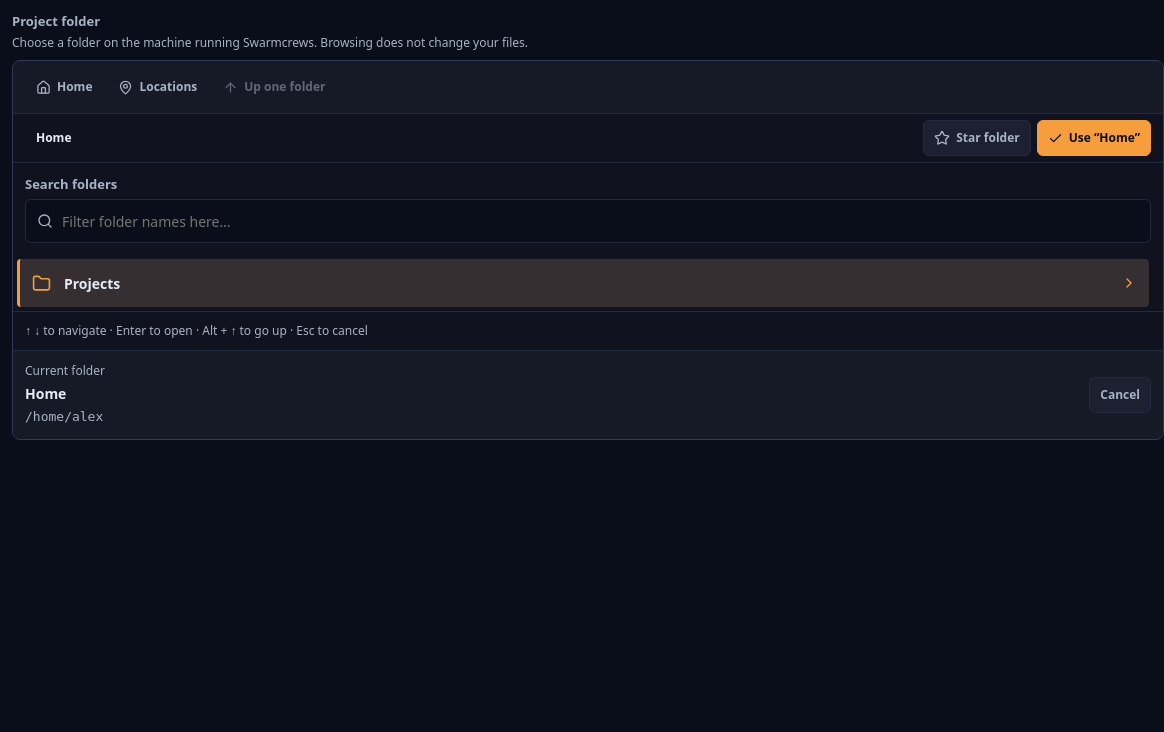
it: new folder from an empty search › hides the previous proposal while a new lookup is pending or fails
Expected: the option "Projects" is shown, [17, 259, 1149, 307]
Type "Fresh app" into the dropdown.
click(588, 221); type("Fresh app")  # box [25, 199, 1151, 243]
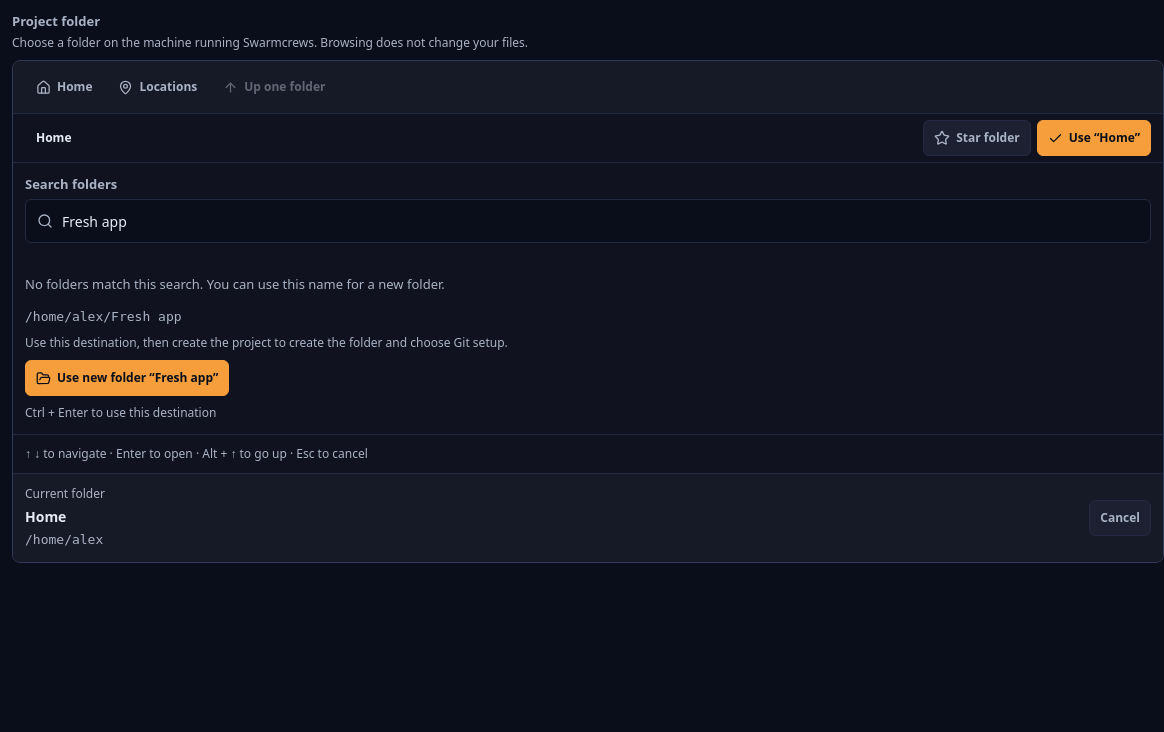
Expected: the button with aria-label "Use new folder Fresh app" is shown, [25, 360, 229, 396]
Replace the text in the dropdown with "denied" at (588, 221), box [25, 199, 1151, 243]
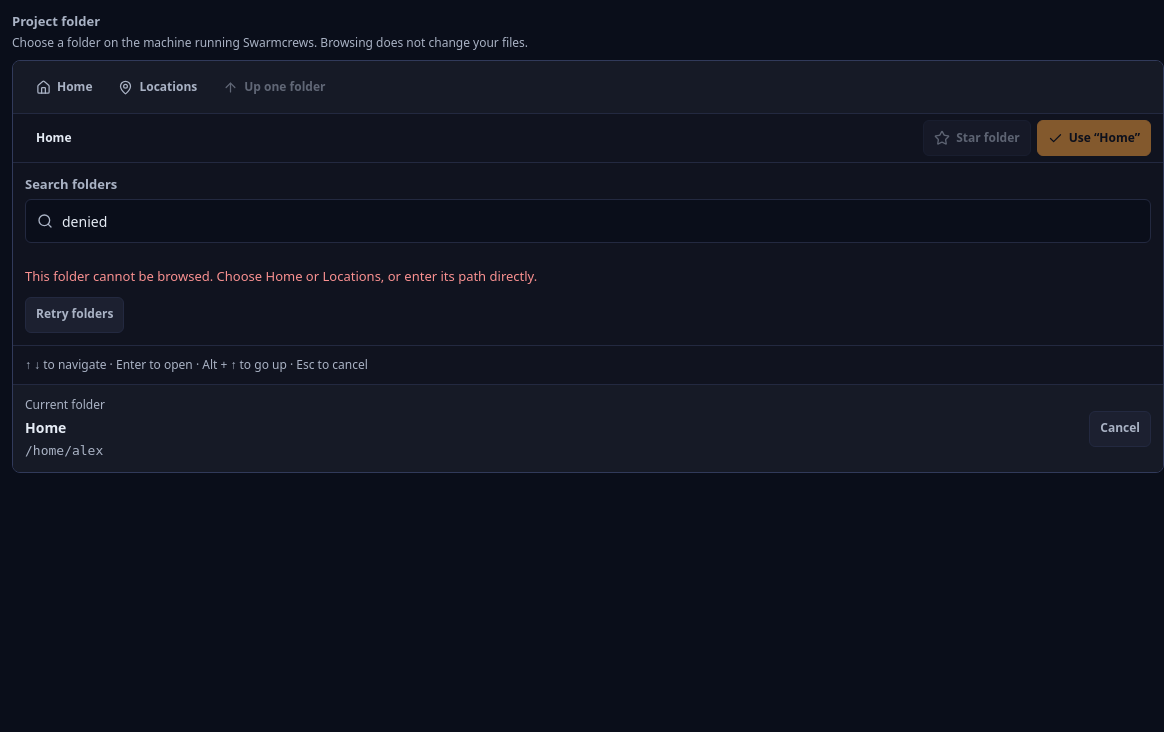
Expected: the message is shown, [25, 267, 537, 333]
Expected: the button "Use new folder" is gone
